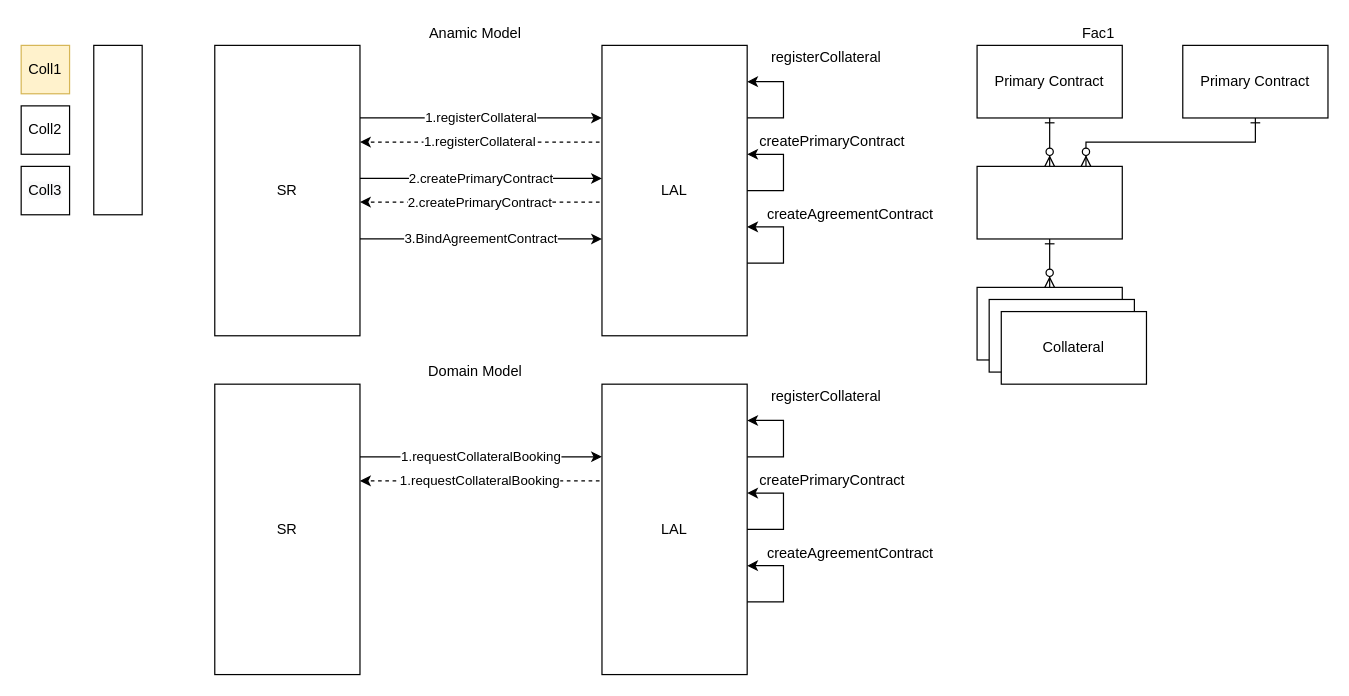
The diagram is 1349 pixels wide and 696 high, and some of its shapes have lost their labels. The shapes that lost their labels are listed below. From the top down, each one's centre as x and y in pixels, then its label:
At point 117,129: "Fac".
At point 1049,202: "Agreement Contract".
